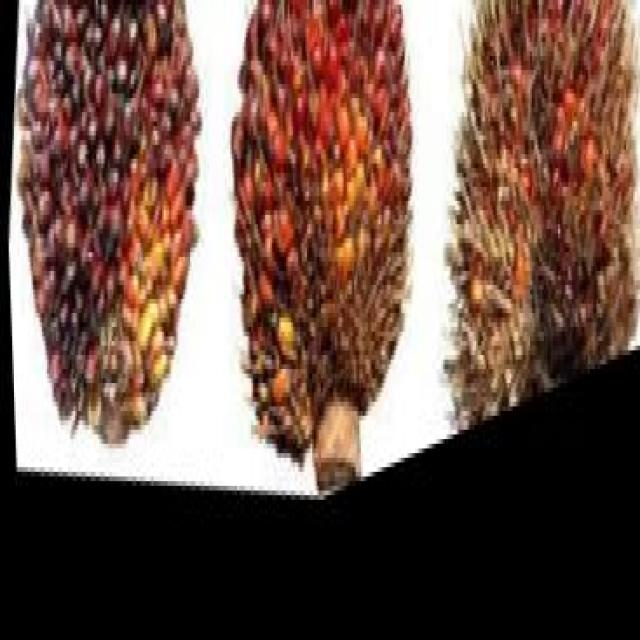Ripefruit: (200, 0, 449, 565)
